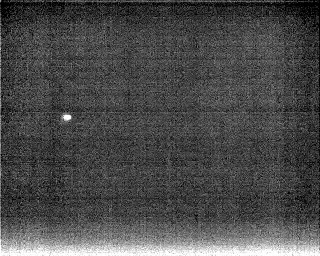AIRPLANE: (61, 112, 73, 123)
